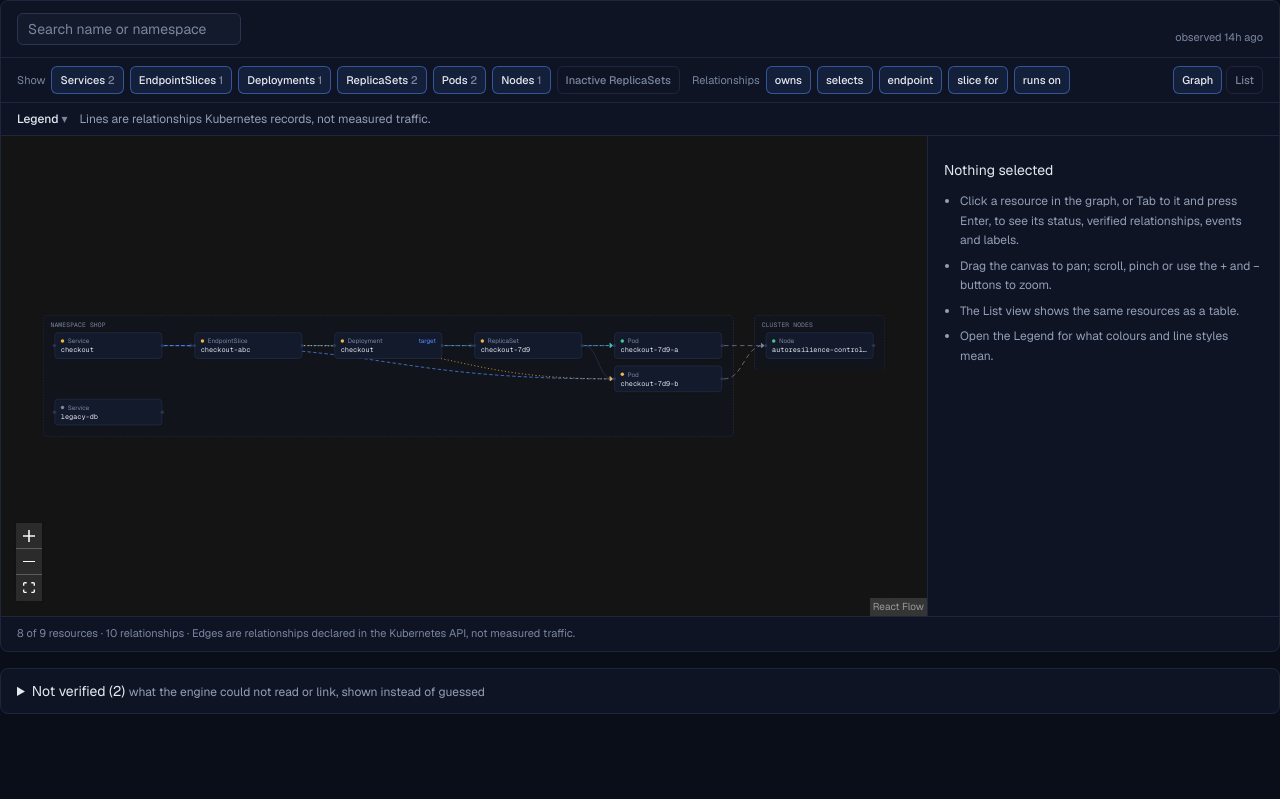
Test: TopologyView › has an expandable legend for kinds, health, relationships and marks
The width and height of the screenshot is (1280, 799).
Step 1. Click the text "Lines are relationships Kubernetes records, not measured traffic." → x=255, y=119, box [80,111,430,127]
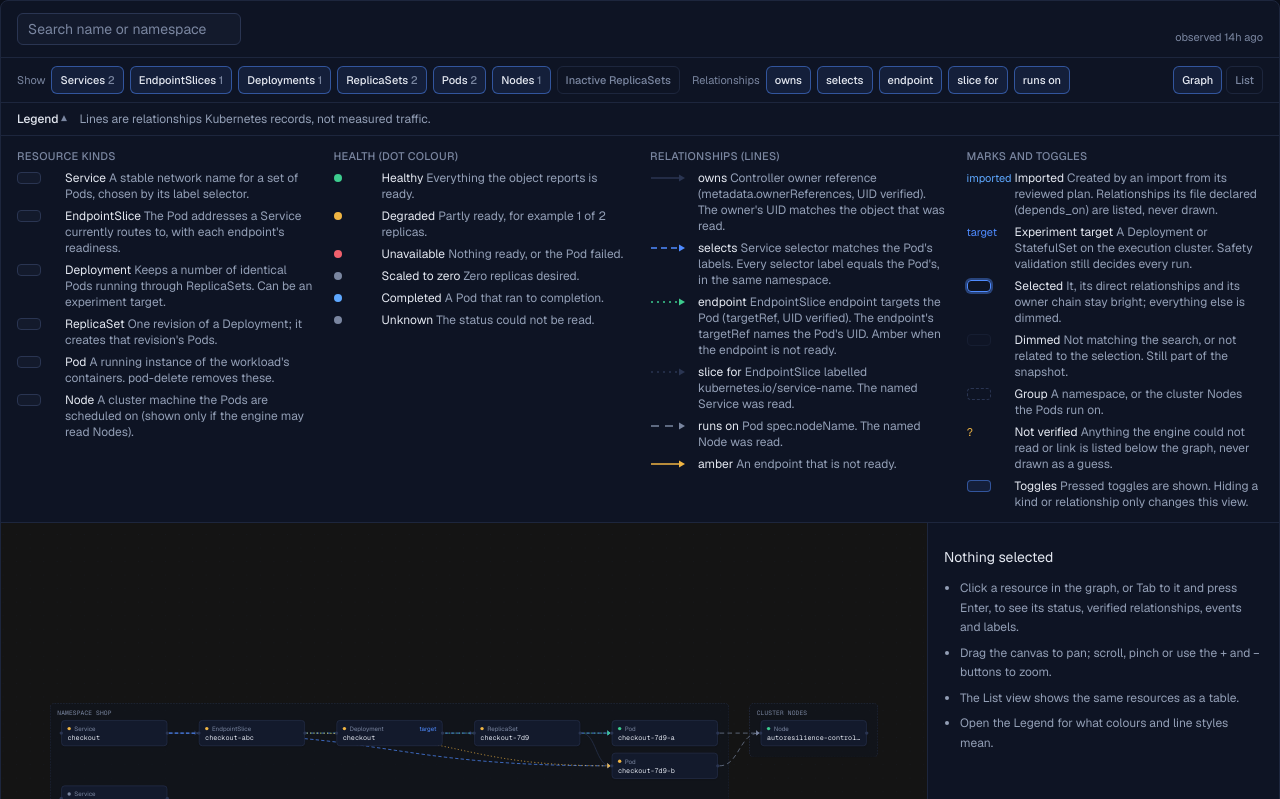
Now the heading "Resource kinds" is shown, box [17,149,116,163]
Now the heading "Health (dot colour)" is shown, box [334,149,458,163]
Now the heading "Relationships (lines)" is shown, box [650,149,780,163]
